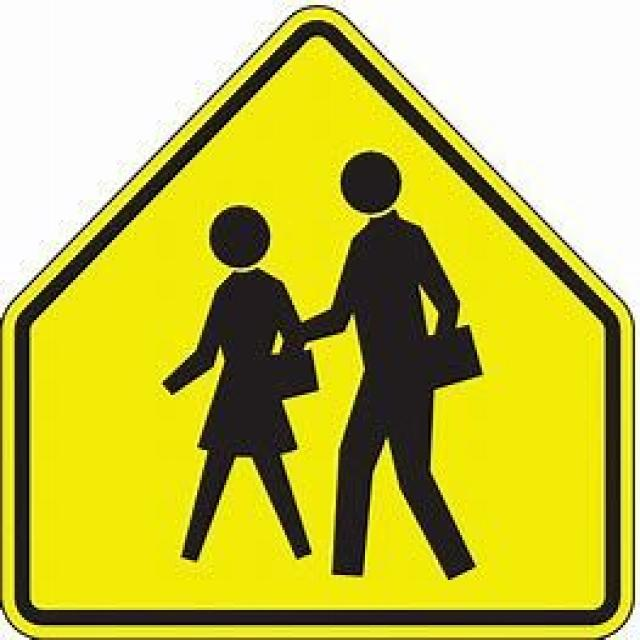SCHOOL_AHEAD: (0, 2, 638, 638)
